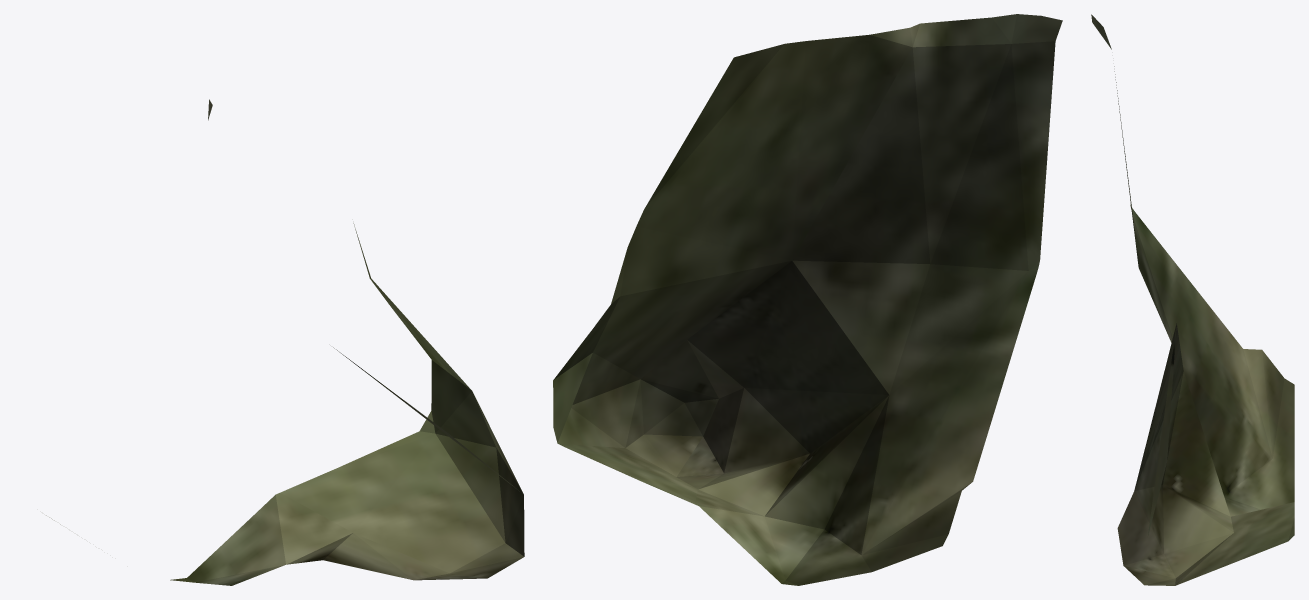
The picture shows the model from 3 angles, left to right: view 1: azimuth 30°, elevation 25°; view 2: azimuth 150°, elevation 25°; view 3: azimuth 270°, elevation 25°; orthographic projection. The views are drawn at different scales.
Size of the model in its own units: 1.1 by 1.32 by 0.558.
1 material, 1 textured.
